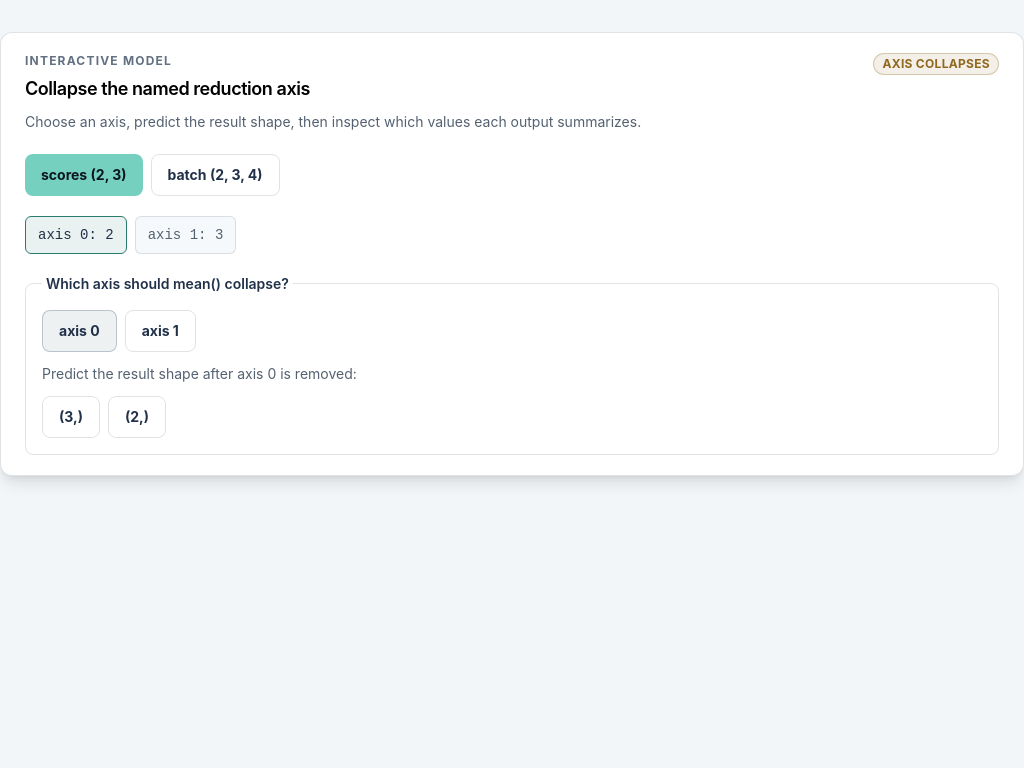
Test: vectorization interactives › reveals the groups after a correct 3D shape prediction
Click the button "batch (2, 3, 4)": (215, 175) [150,154,280,196]
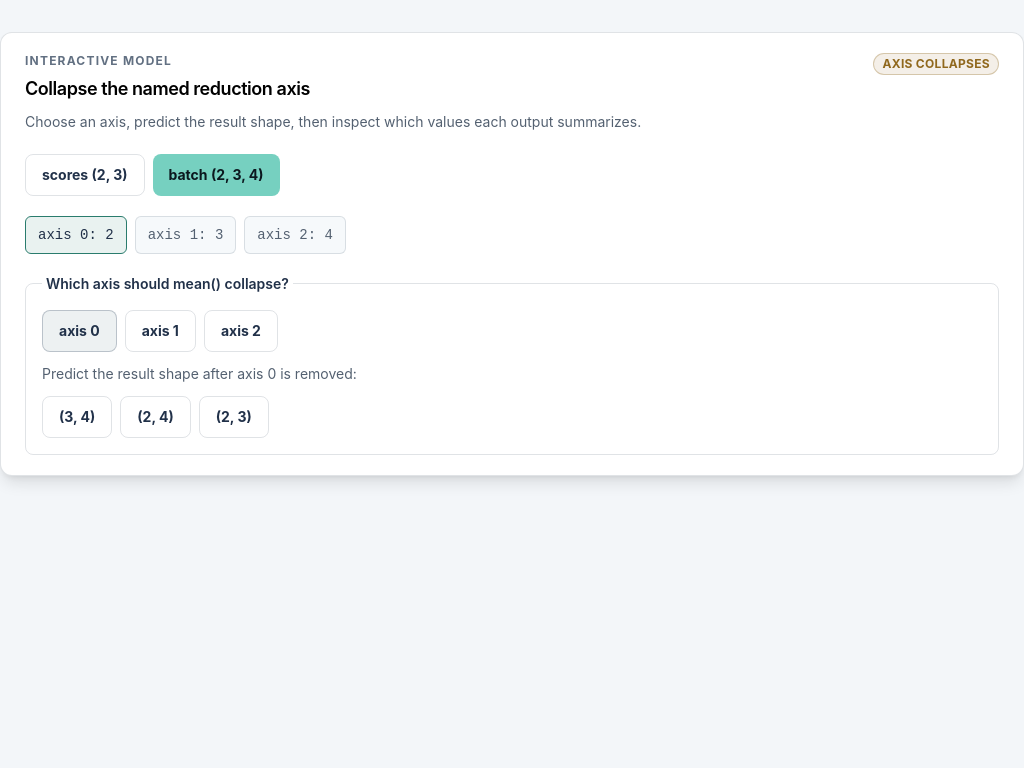
Click the button "axis 1": (160, 331) [125,310,196,352]
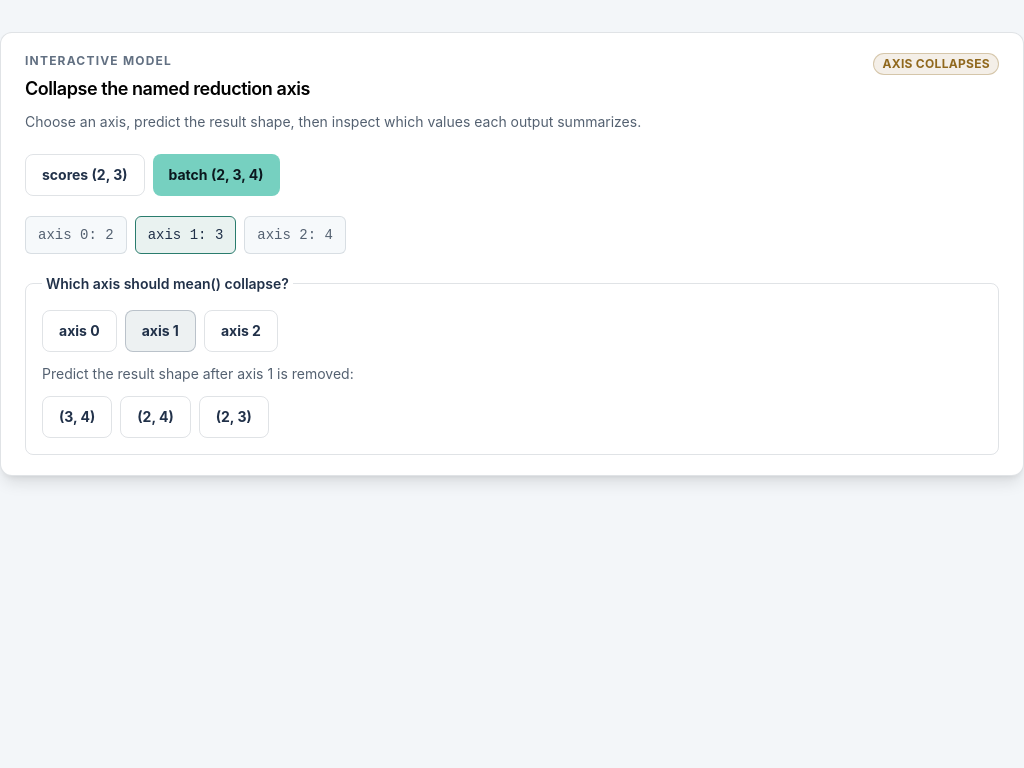
Click the button "(2, 4)": (156, 417) [120,396,191,438]
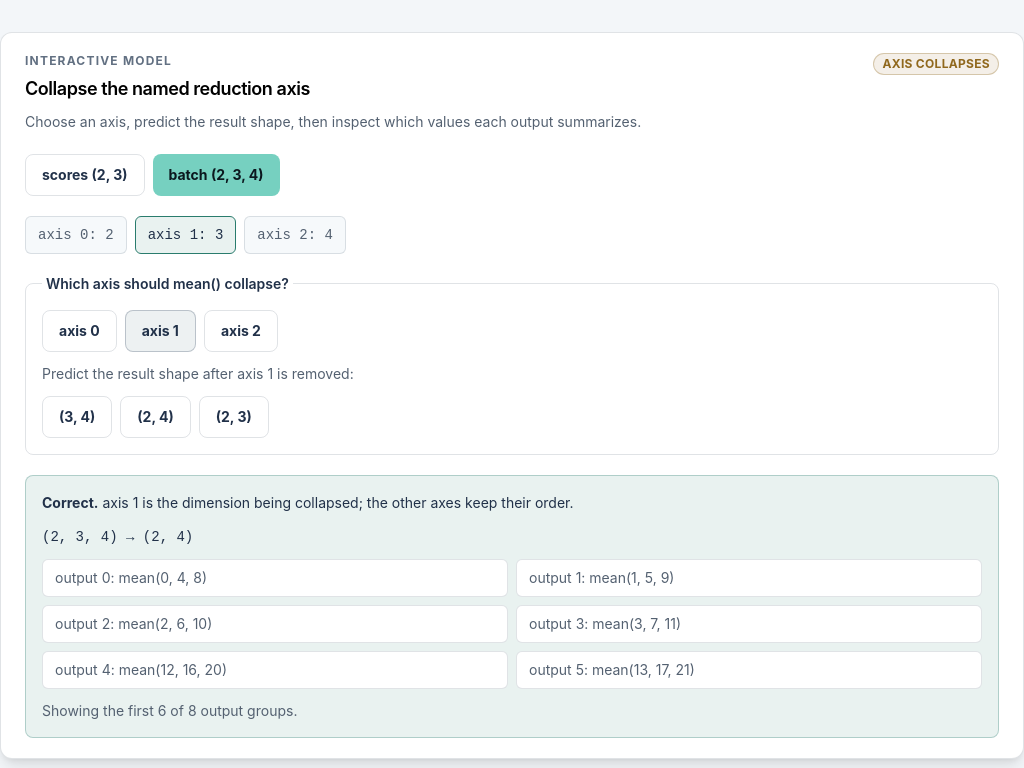
Expected: the message shows "(2, 3, 4) → (2, 4)", [25,475,999,738]
Expected: the message shows "mean(", [110,568,160,586]
